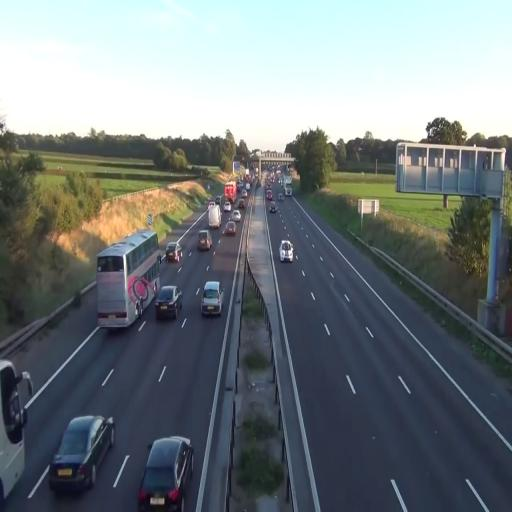vehicle: (96, 228, 160, 330), (48, 414, 115, 494), (0, 358, 32, 508), (137, 435, 194, 511), (155, 284, 183, 322), (200, 280, 222, 317), (165, 244, 181, 267), (279, 238, 294, 262), (198, 230, 212, 252), (225, 218, 237, 235)
